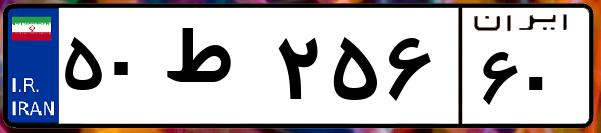0: (525, 38, 570, 115), (110, 28, 158, 98)
2: (270, 28, 330, 110)
5: (330, 28, 385, 110), (57, 26, 110, 100)
6: (385, 28, 445, 110), (475, 38, 525, 113)
ط: (158, 20, 270, 120)
